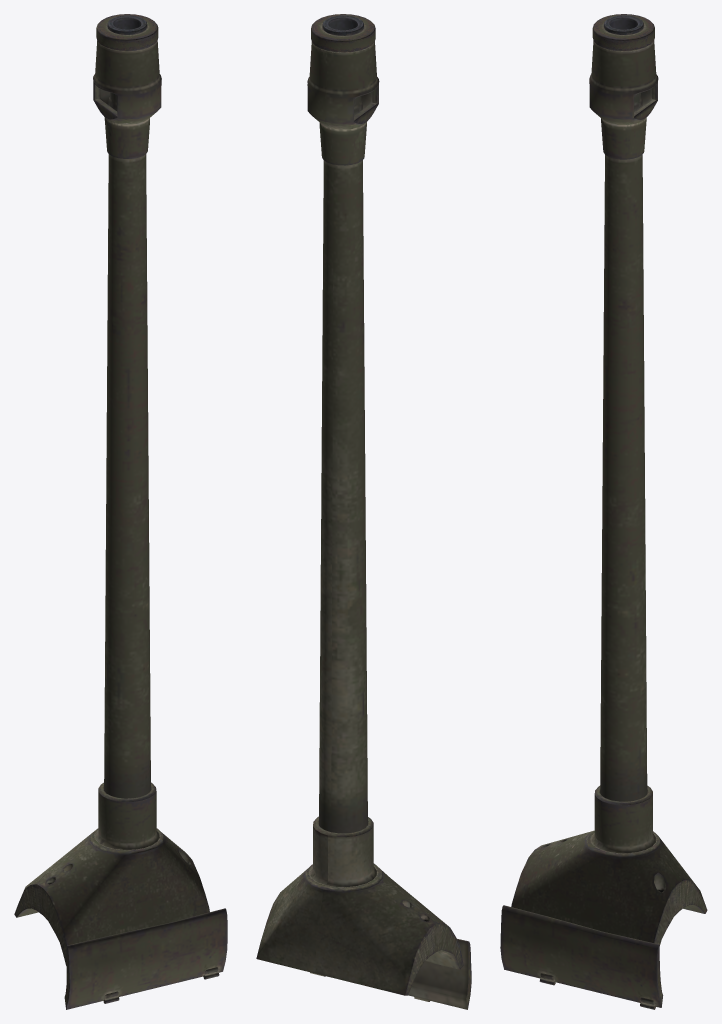
The model's file is Gun_02.glb.
3 views of the same model, side by side, from view 1: azimuth 30°, elevation 25°; view 2: azimuth 150°, elevation 25°; view 3: azimuth 330°, elevation 25° (orthographic). The views are drawn at different scales.
Parts seen in each view (by area): view 1: set_0_group_0; view 2: set_0_group_0; view 3: set_0_group_0.
Boxes of the visible parts, box(x1,y1,x2,y2) form: set_0_group_0: box(14, 14, 227, 1009); set_0_group_0: box(256, 14, 471, 1009); set_0_group_0: box(500, 14, 707, 1009).
Size of the model in its own units: 0.84 by 4.84 by 0.5633.
Materials: 1 (1 with a texture image).
